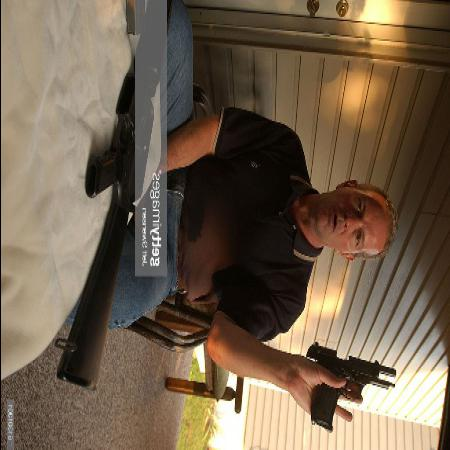2: (55, 2, 175, 402)
Pistol: (307, 343, 402, 433)
